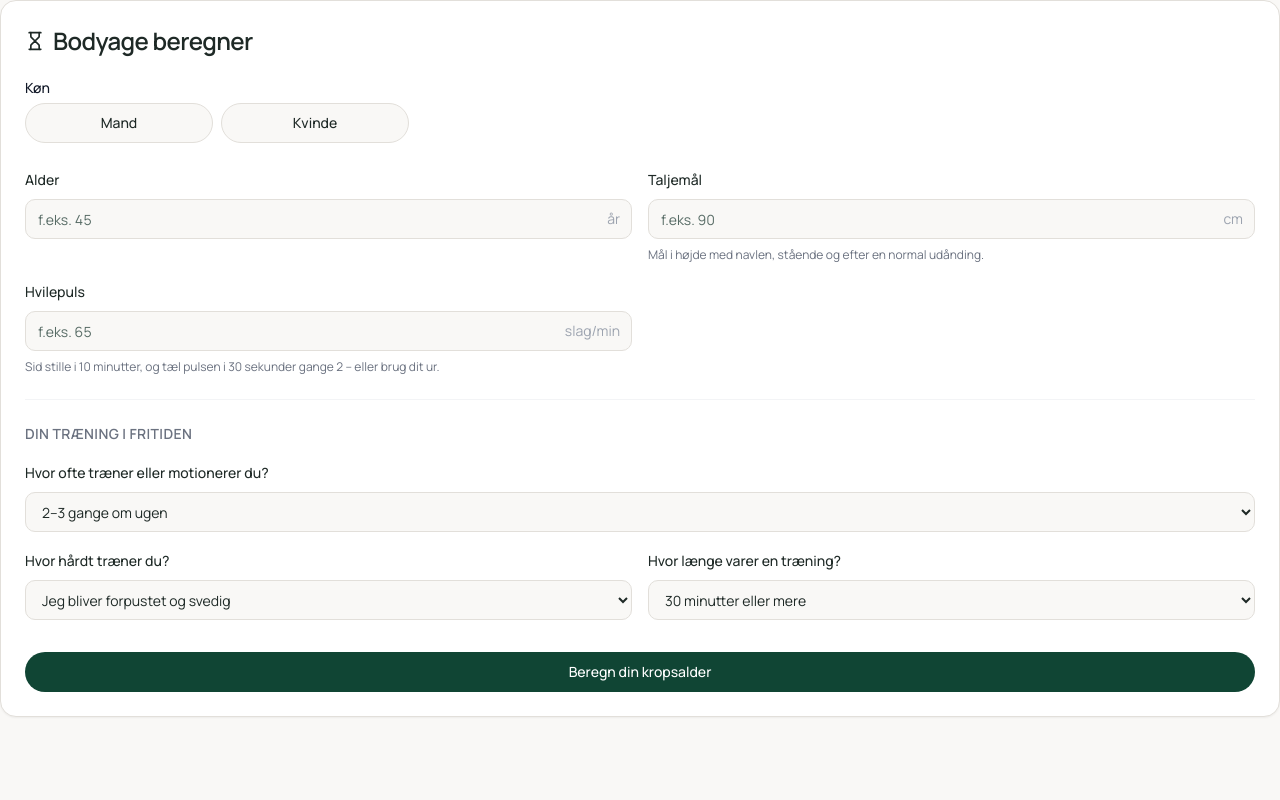
Scenario: BodyAgeCalculator › names the missing measurements
The width and height of the screenshot is (1280, 800).
Click the button "Beregn din kropsalder" at (640, 672), box [25, 652, 1255, 692]
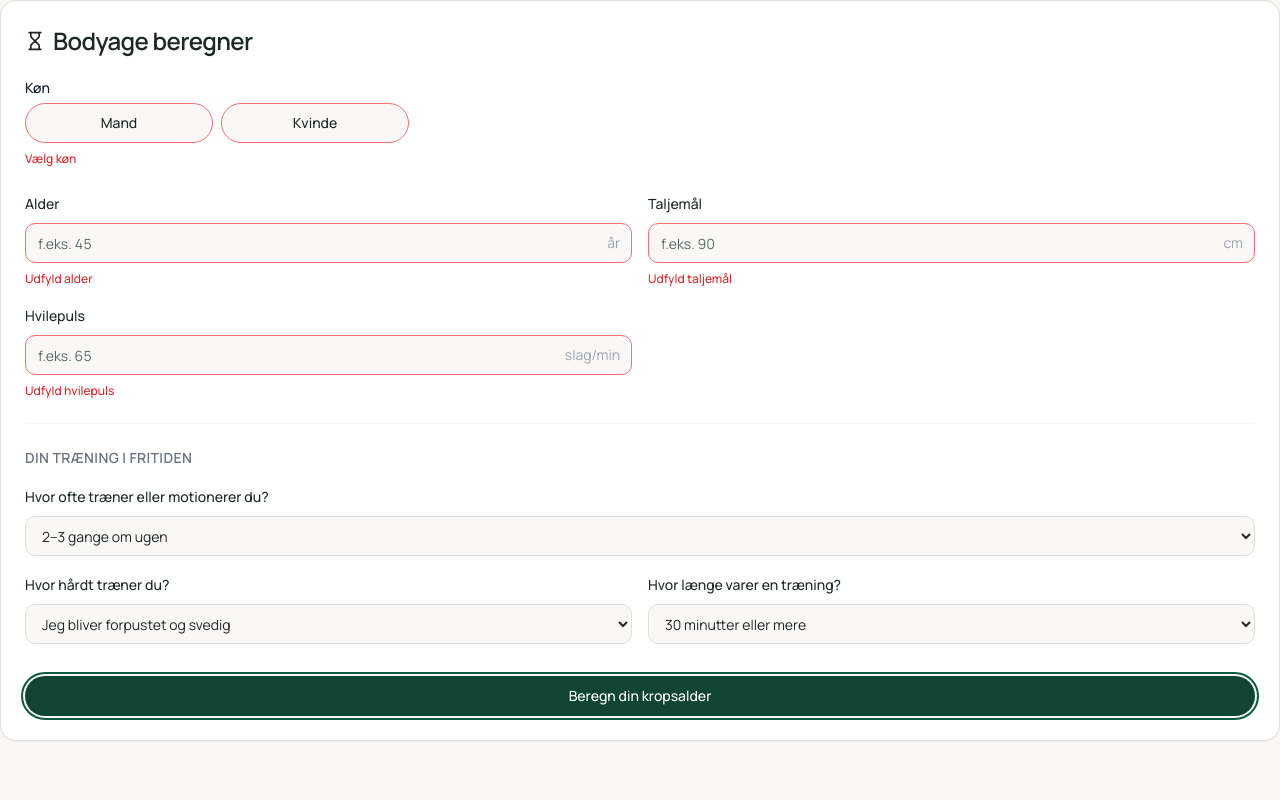
Check: the text "Udfyld taljemål" is shown, box [648, 270, 732, 287]
Check: the text "Udfyld hvilepuls" is shown, box [25, 382, 114, 399]
